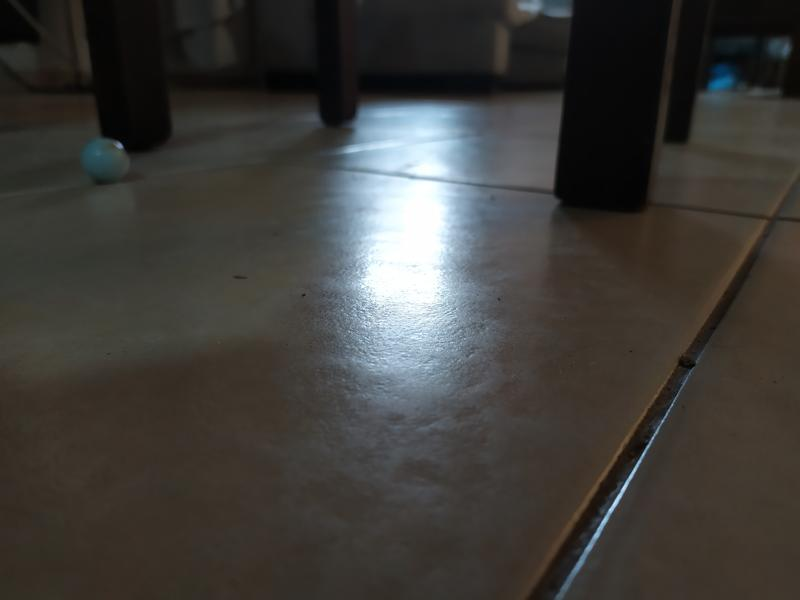Warning: (78, 134, 134, 187)
